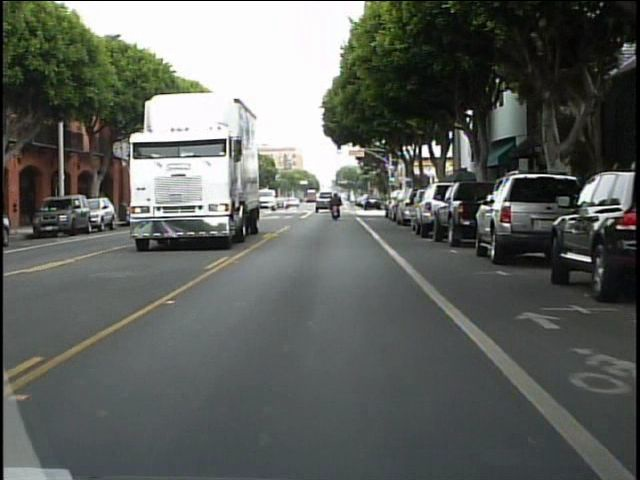person: (329, 192, 342, 223)
